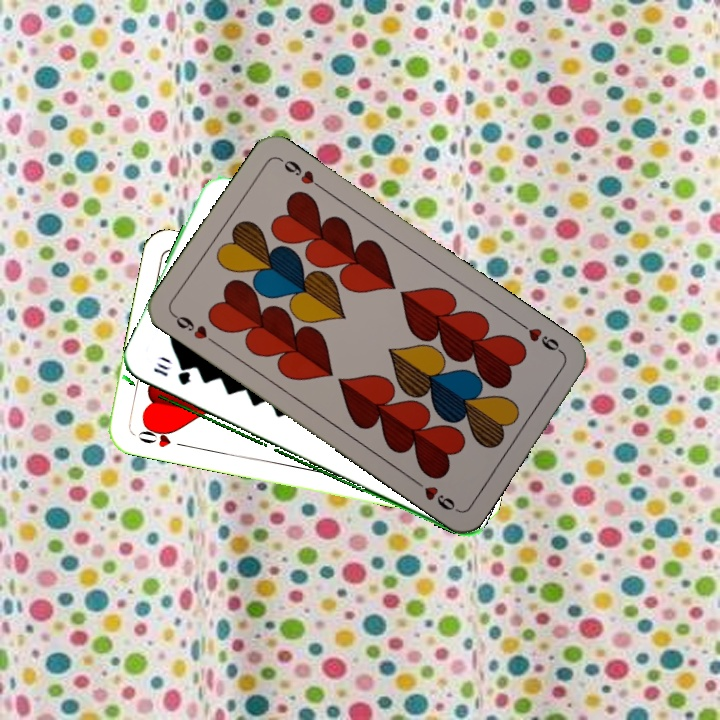G10: (149, 359, 193, 388)
H9: (515, 318, 567, 357), (168, 310, 221, 348)
HO: (131, 421, 190, 450)
